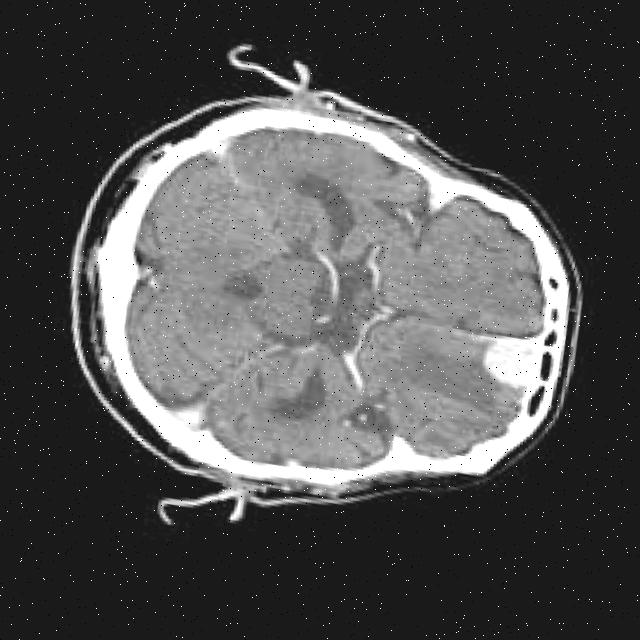Meningioma: (476, 328, 545, 393)
